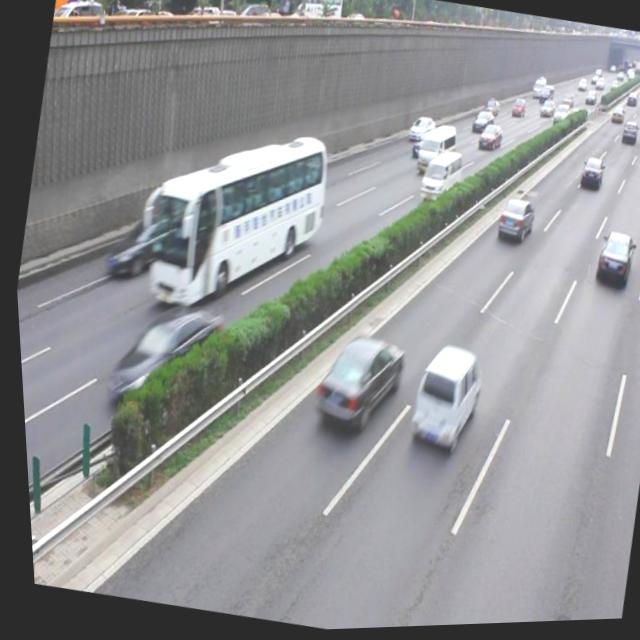car: (96, 296, 223, 420), (300, 328, 404, 442), (396, 339, 484, 460), (99, 206, 182, 286), (587, 230, 633, 292), (490, 197, 535, 250)
truck: (414, 149, 463, 211), (410, 122, 457, 181)
van: (128, 111, 336, 329)
